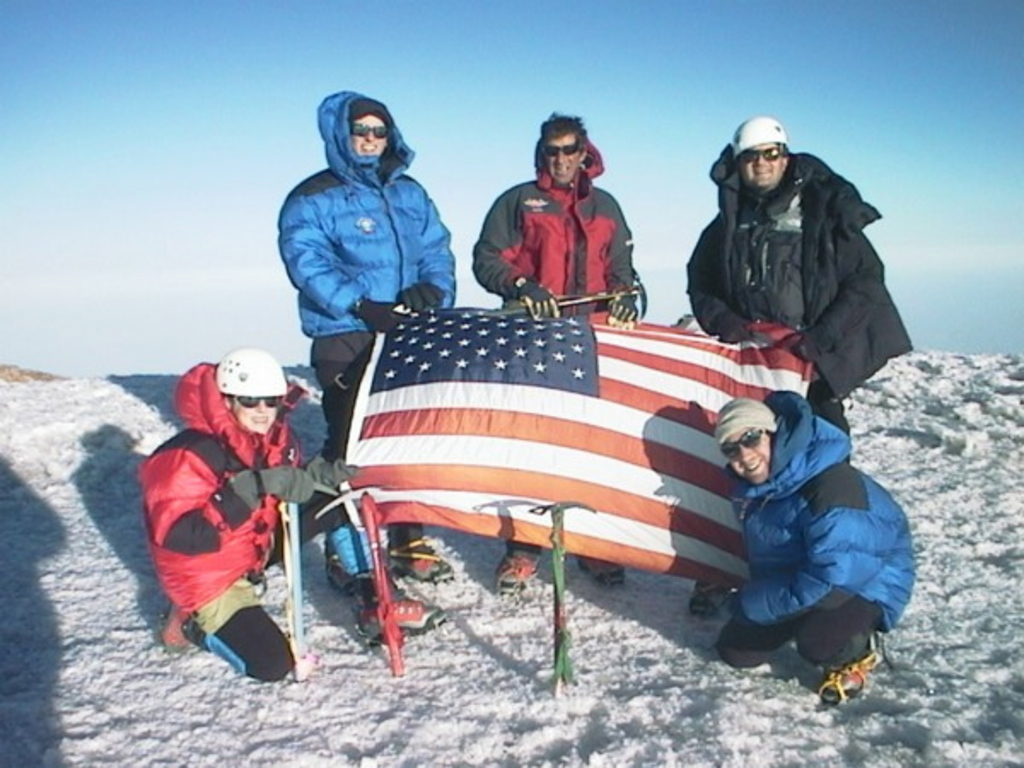Person: (686, 114, 914, 616), (135, 343, 449, 683), (275, 88, 459, 605), (472, 110, 636, 598), (716, 389, 918, 705)
